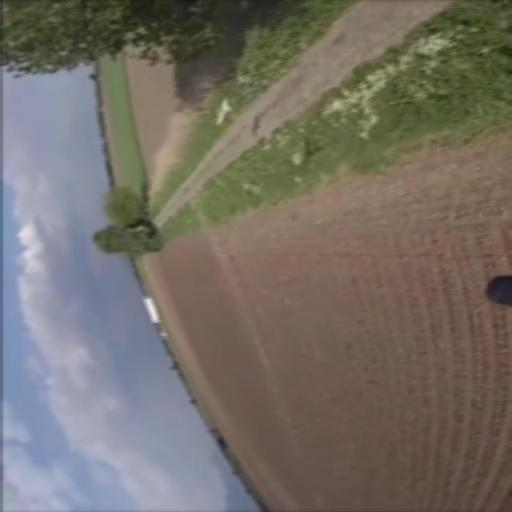uav: (210, 96, 232, 124)
